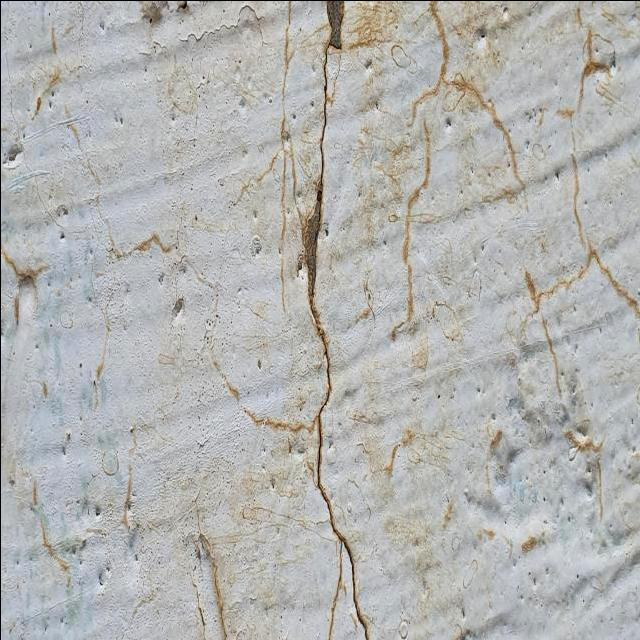SurfaceCrack: (268, 3, 389, 640)
